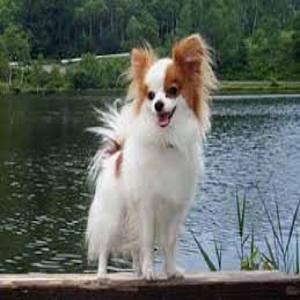yell: (84, 33, 207, 281)
